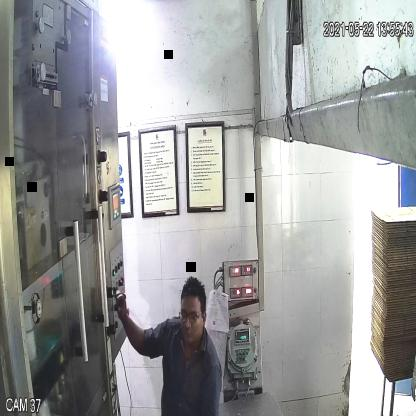goggles: (177, 304, 207, 326)
